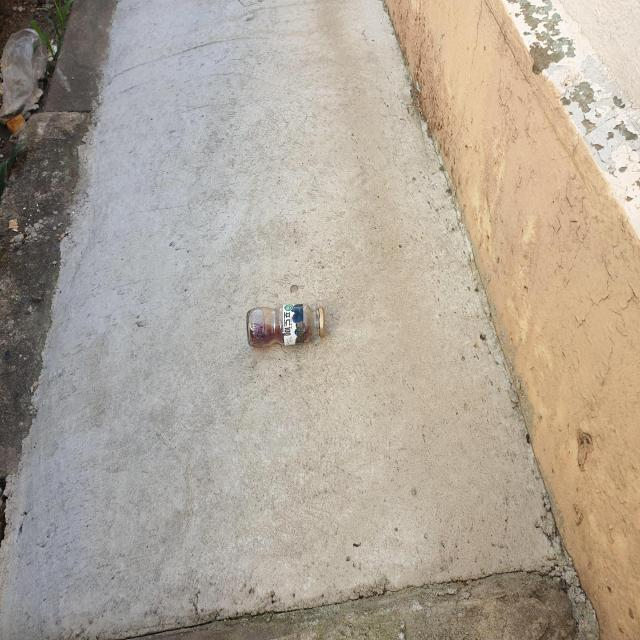glass: (247, 304, 325, 346)
